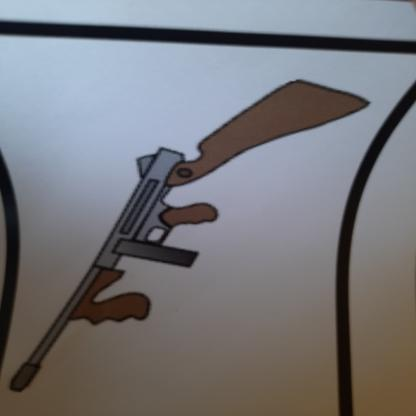Bootlegger: (7, 49, 368, 409)
